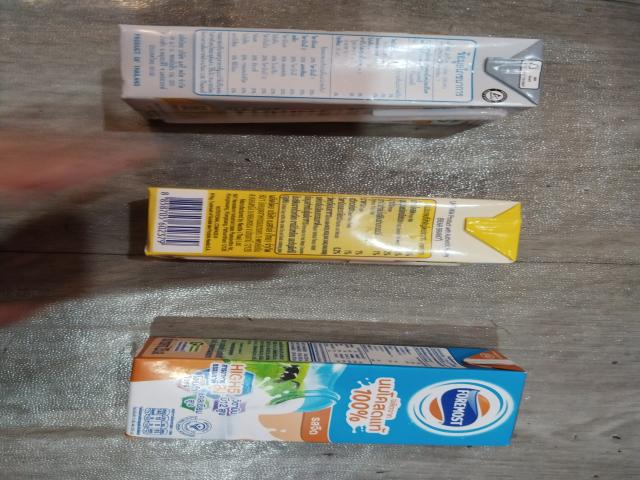drink_box: (116, 331, 530, 451), (116, 21, 554, 132), (132, 180, 539, 271)
